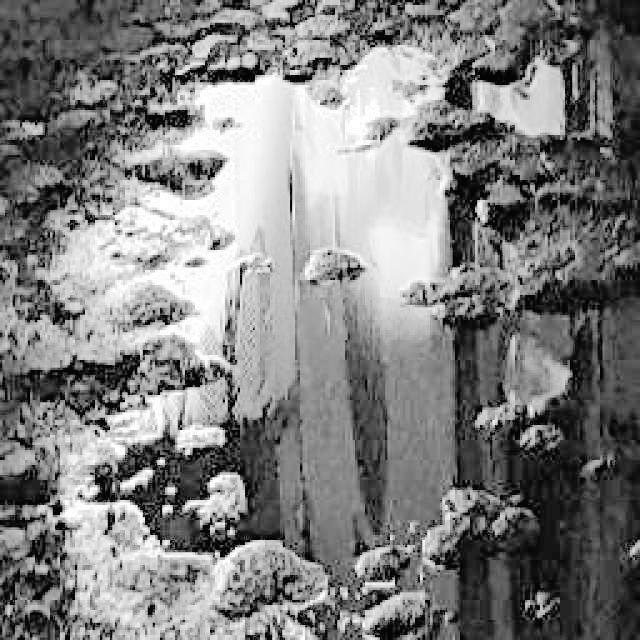Pothole: (70, 20, 640, 640)
